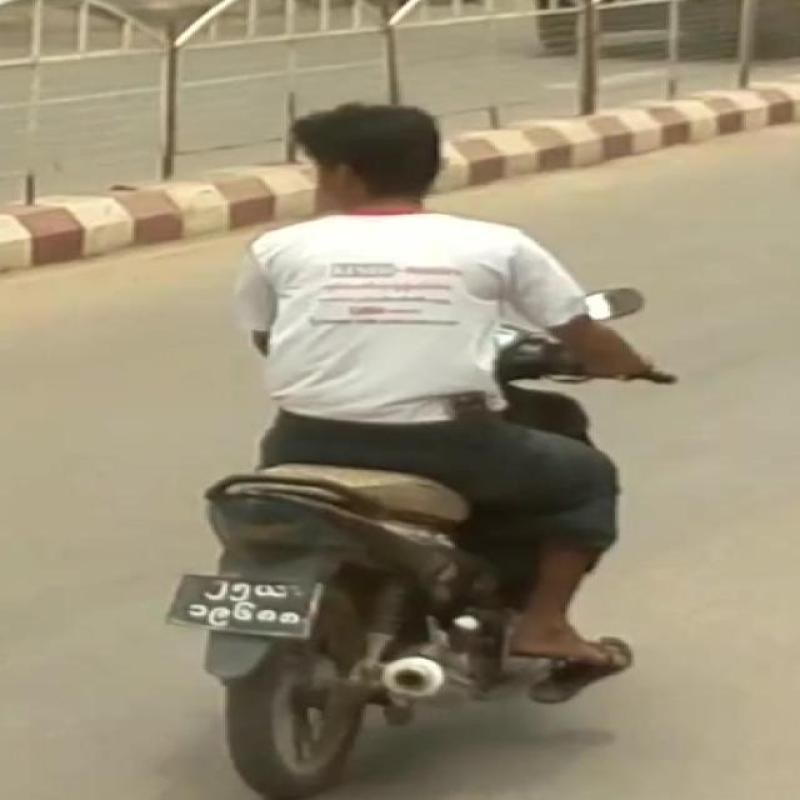nohelmet: (307, 94, 503, 204)
